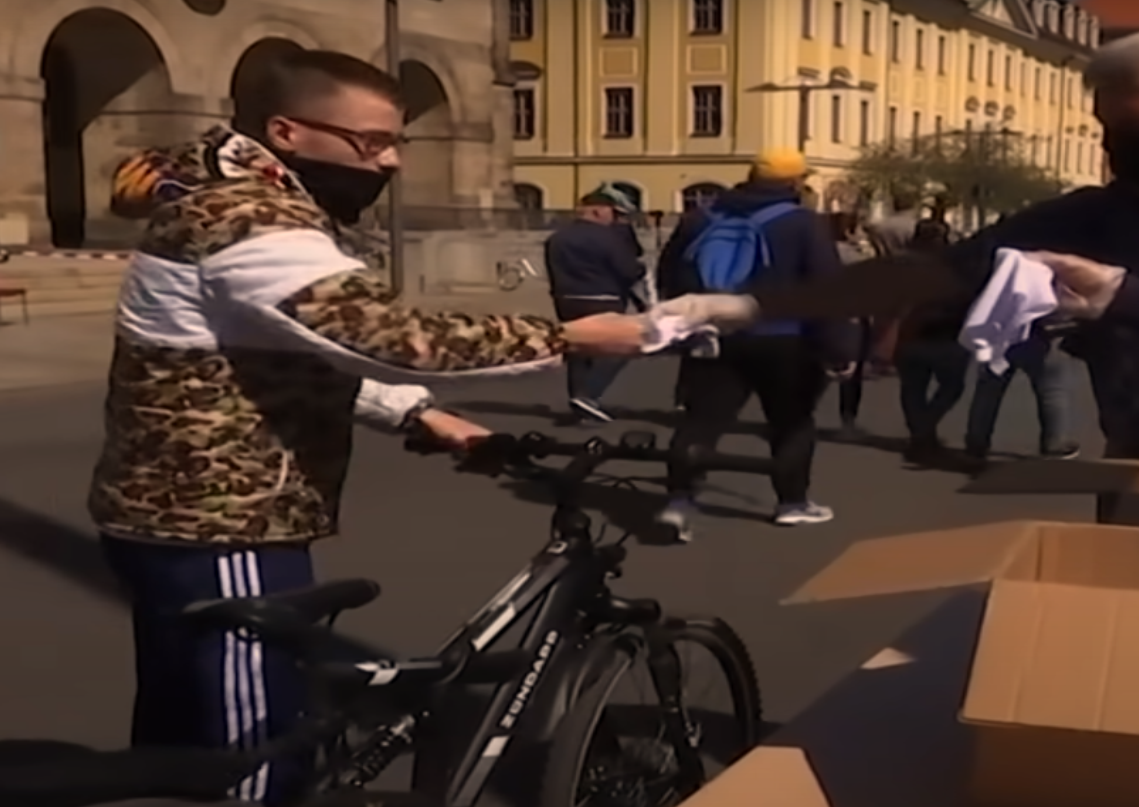mask_weared_incorrect: (235, 47, 415, 222)
